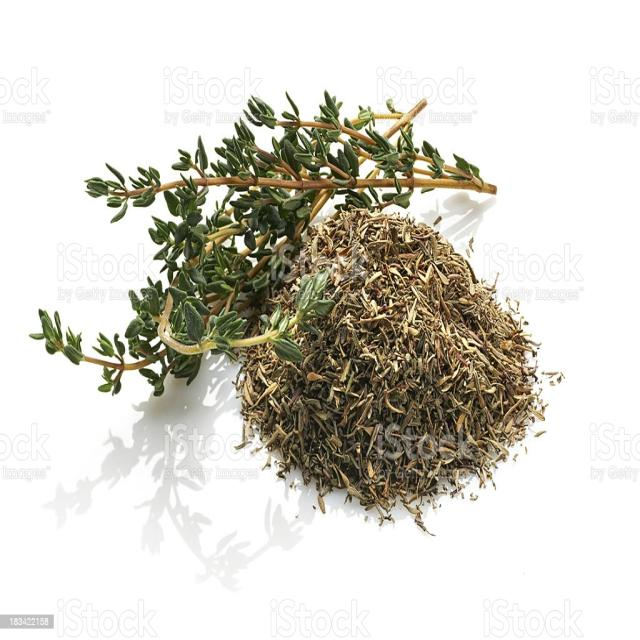Thyme: (35, 38, 530, 366), (252, 210, 575, 518)
